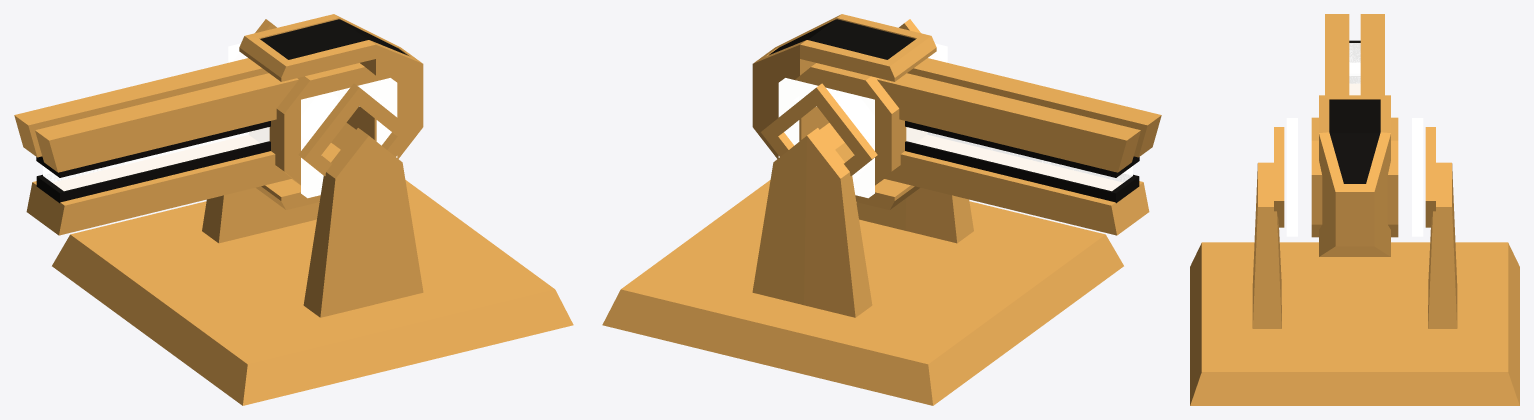
Rendered from simple.fbx.
3 renders of one model, left to right at view 1: azimuth 30°, elevation 25°; view 2: azimuth 150°, elevation 25°; view 3: azimuth 270°, elevation 25°, orthographic. The views are drawn at different scales.
Parts seen in each view (by area): view 1: Cube.008, Plane.002, Cube.002, Cube.003, Cube.004, Plane.001, Plane.003, Cube.001, Plane, Cube.005, Cube.007, Cube.006; view 2: Cube.008, Plane.002, Cube.002, Cube.003, Cube.004, Plane.001, Plane.003, Cube.001, Plane, Cube.005, Cube.007, Cube.006; view 3: Cube.008, Plane.002, Cube.004, Cube.002, Cube.007, Plane, Plane.001, Plane.003, Cube.001.
Boxes of the visible parts, box(x1,y1,x2,y2) form: Cube.008: box(52, 180, 573, 405); Plane.002: box(202, 128, 423, 317); Cube.002: box(14, 58, 298, 172); Cube.003: box(26, 151, 291, 235); Cube.004: box(239, 14, 423, 209); Plane.001: box(269, 63, 380, 185); Plane.003: box(255, 19, 414, 175); Cube.001: box(43, 127, 269, 191); Plane: box(228, 43, 397, 198); Cube.005: box(36, 141, 270, 203); Cube.007: box(260, 19, 406, 59); Cube.006: box(36, 121, 270, 177); Cube.008: box(602, 180, 1123, 405); Plane.002: box(752, 128, 973, 317); Cube.002: box(877, 58, 1161, 172); Cube.003: box(884, 151, 1149, 235); Cube.004: box(752, 14, 936, 209); Plane.001: box(795, 63, 906, 185); Plane.003: box(761, 19, 920, 175); Cube.001: box(906, 127, 1132, 191); Plane: box(778, 43, 947, 198); Cube.005: box(905, 141, 1139, 203); Cube.007: box(769, 19, 915, 59); Cube.006: box(905, 121, 1139, 177); Cube.008: box(1190, 242, 1519, 405); Plane.002: box(1252, 162, 1457, 328); Cube.004: box(1319, 95, 1390, 256); Cube.002: box(1325, 14, 1384, 95); Cube.007: box(1329, 100, 1380, 183); Plane: box(1286, 118, 1423, 236); Plane.001: box(1311, 117, 1398, 237); Plane.003: box(1274, 127, 1435, 227); Cube.001: box(1349, 43, 1360, 95).
Size of the model in its own units: 650 by 357 by 482.
